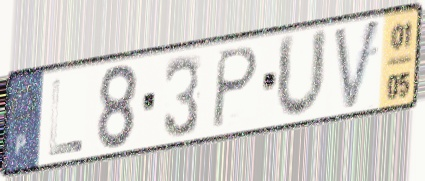3: (162, 52, 200, 140)
8: (94, 61, 140, 152)
L: (47, 75, 85, 159)
P: (208, 44, 262, 133)
U: (274, 24, 330, 122)
V: (332, 15, 383, 115)
